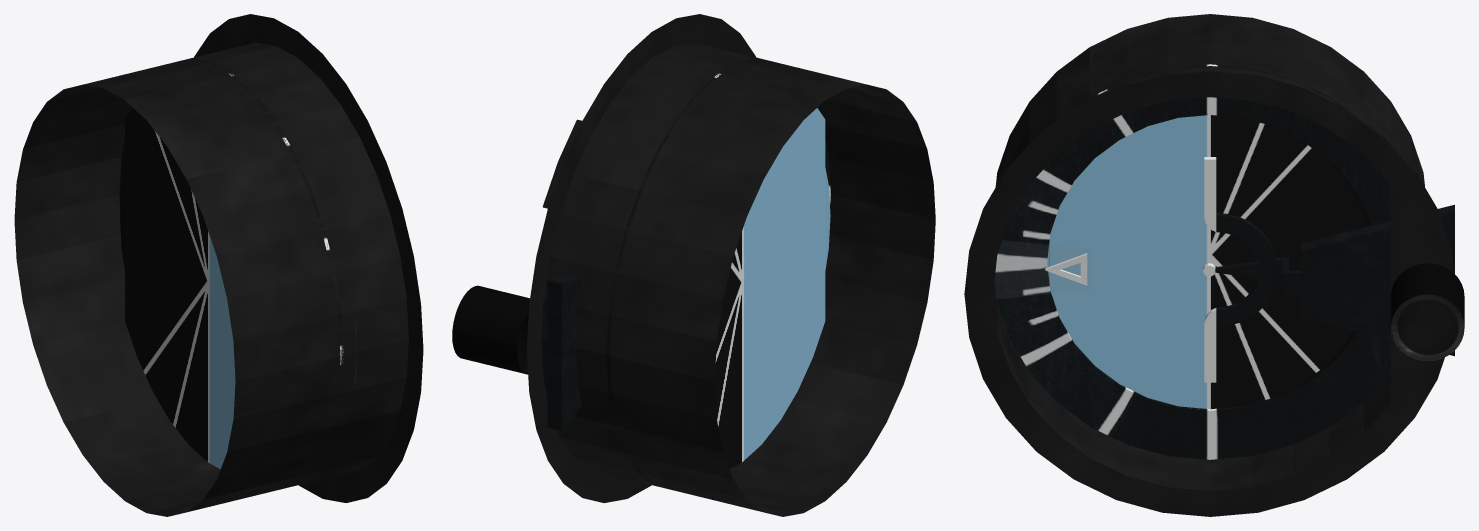
The picture shows the model from 3 angles, left to right: view 1: azimuth 30°, elevation 25°; view 2: azimuth 150°, elevation 25°; view 3: azimuth 270°, elevation 25°; orthographic projection.
Visible parts, largest first — view 1: Case, Pitch, Bezel, Roll; view 2: Case, Pitch, Bezel, AdjustKnob, Bracket, Roll; view 3: Pitch, Roll, Bezel, Case, Bracket, Aircraft, AdjustKnob, RollRefGlass, RollReference.
Boxes of the visible parts, <box> form: Case: <box>14,42,408,516</box>; Pitch: <box>125,108,235,469</box>; Bezel: <box>194,14,423,502</box>; Roll: <box>119,58,343,482</box>; Case: <box>541,42,935,516</box>; Pitch: <box>714,108,825,469</box>; Bezel: <box>526,14,755,502</box>; AdjustKnob: <box>452,285,529,374</box>; Bracket: <box>547,275,581,430</box>; Roll: <box>606,58,830,486</box>; Pitch: <box>1049,115,1367,409</box>; Roll: <box>994,64,1390,459</box>; Bezel: <box>964,71,1453,516</box>; Case: <box>993,14,1424,490</box>; Bracket: <box>1301,204,1454,356</box>; Aircraft: <box>1203,157,1301,382</box>; AdjustKnob: <box>1390,263,1464,361</box>; RollRefGlass: <box>995,241,1089,298</box>; RollReference: <box>1045,253,1087,285</box>.
Bounding box in the file's own units: 0.0403 × 0.0717 × 0.0729.
6 materials, 6 textured.
